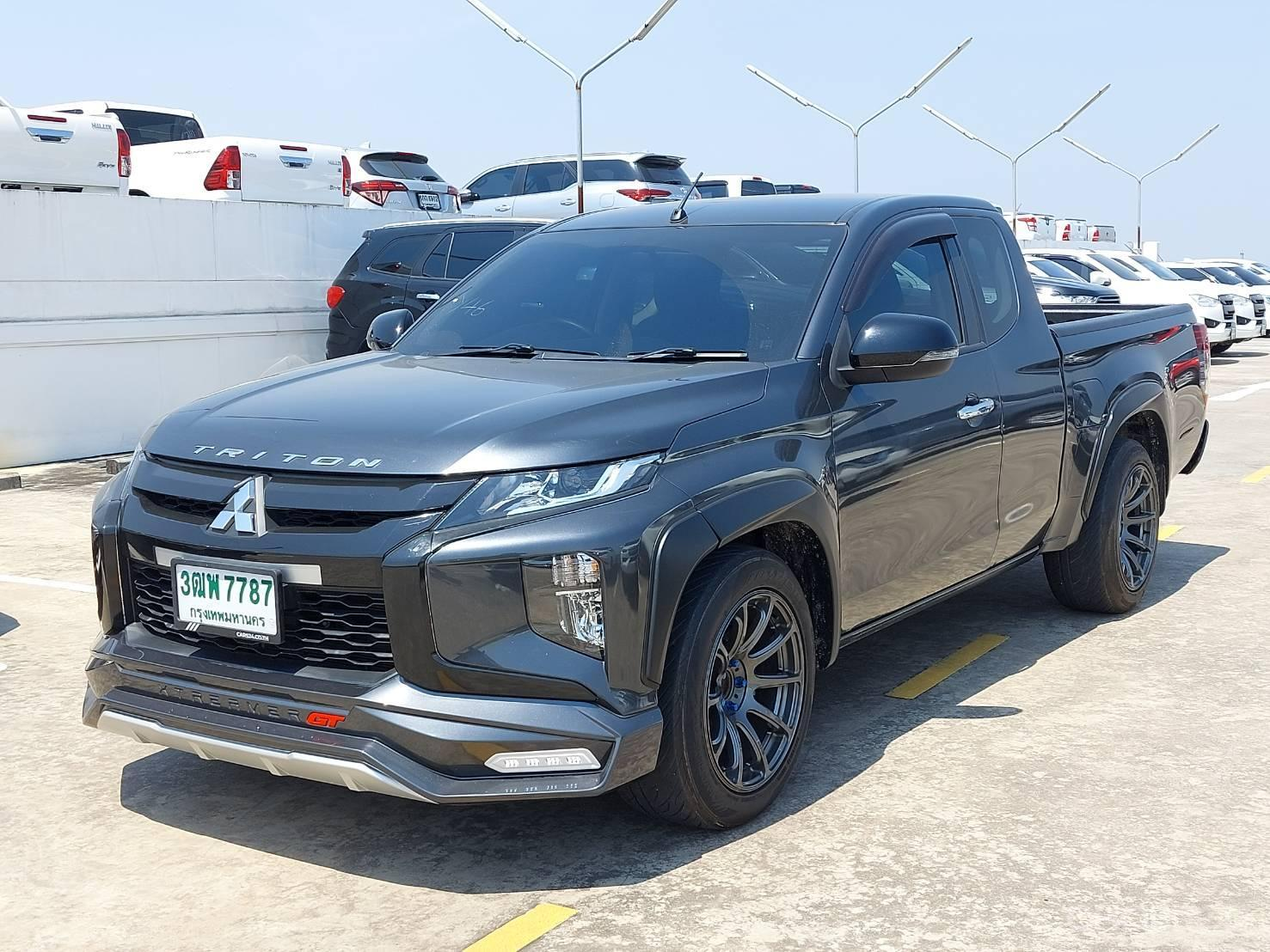license-plate: (168, 558, 280, 648), (414, 188, 443, 214)
